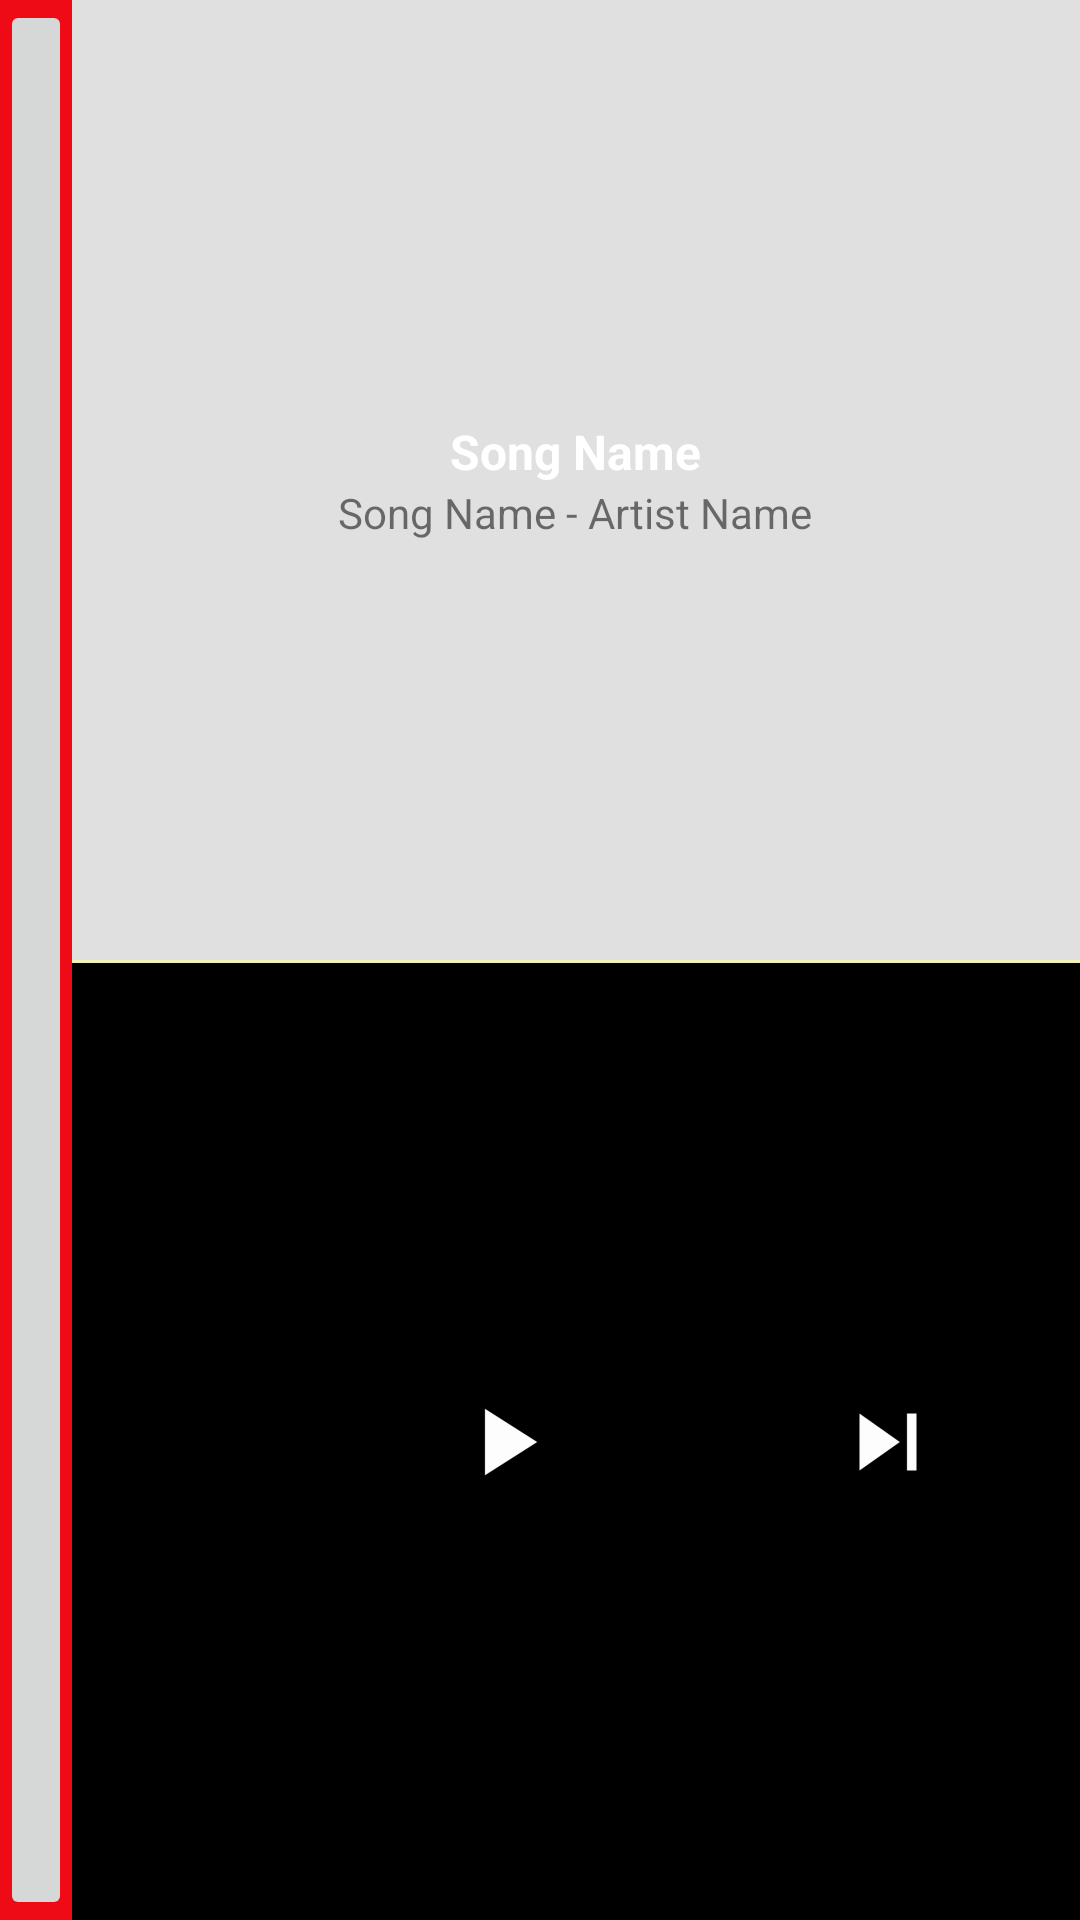

Where icons sit on this 1080*1920 app screen, as (x1=x1, y1=y1, x2=x2, y2=y2):
next: (x1=859, y1=1413, x2=917, y2=1471)
play: (x1=484, y1=1409, x2=537, y2=1475)
